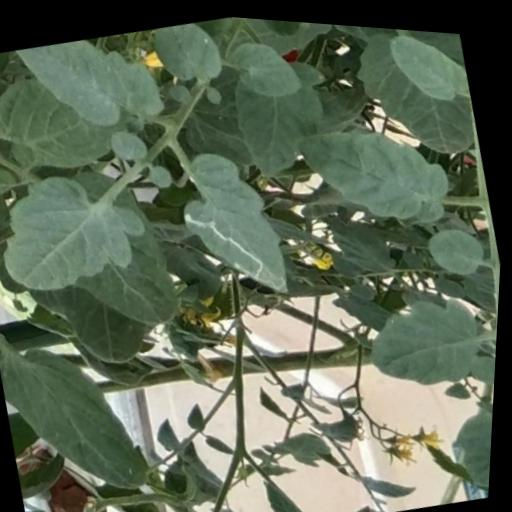Healthy: (0, 320, 166, 512), (284, 91, 462, 246), (0, 149, 164, 306), (9, 17, 176, 145), (361, 277, 500, 398), (380, 22, 474, 109), (227, 25, 310, 106), (147, 11, 230, 88), (422, 215, 494, 279)
Leaf_Miner: (163, 133, 304, 316)
